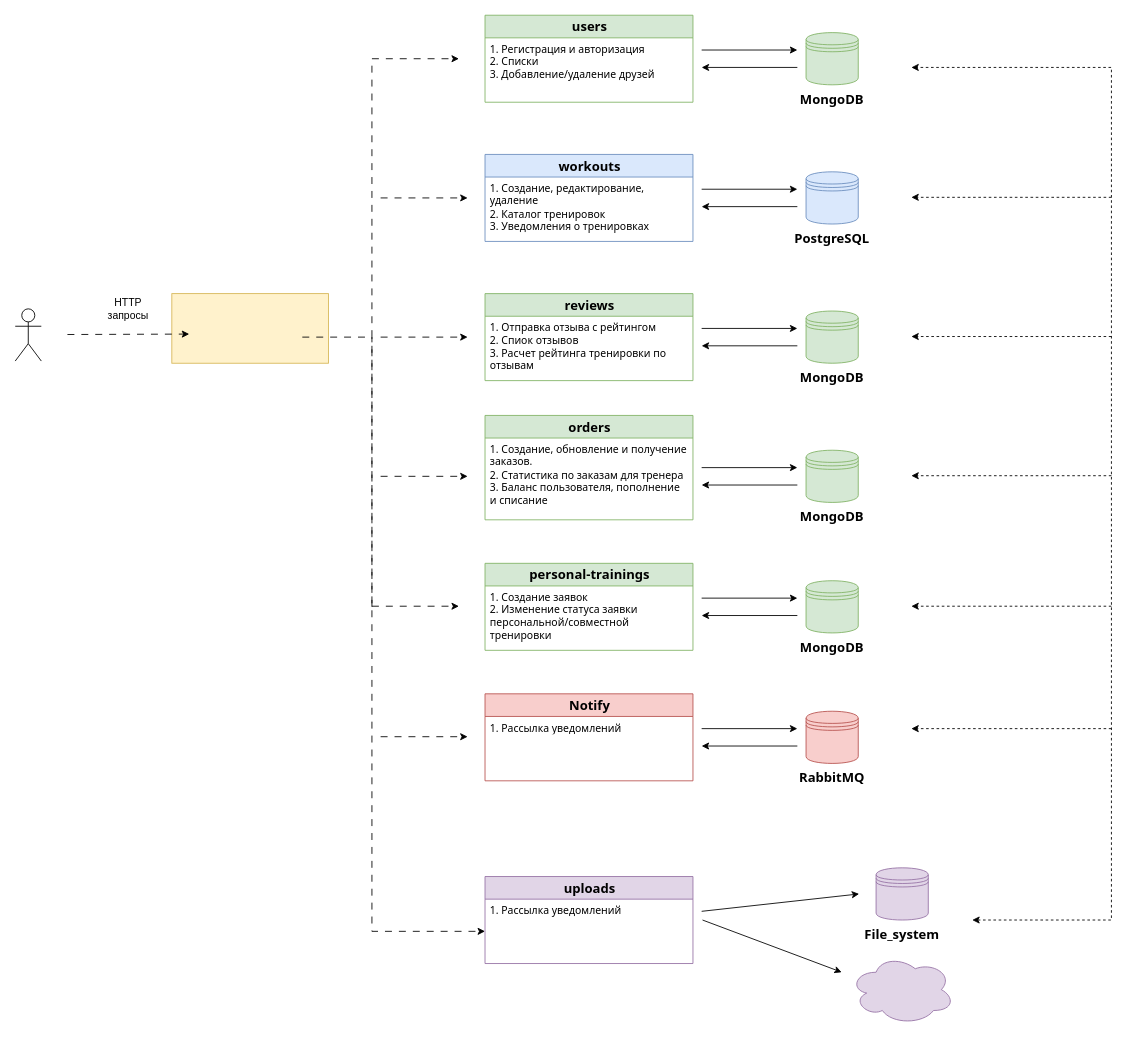
Image size: 1134x1040. Some labels were removed from this diagram. Each missing label, with the centre of its shape:
API GATEWAY (сервис bff): point 249,328
Cloud storage: point 901,989
